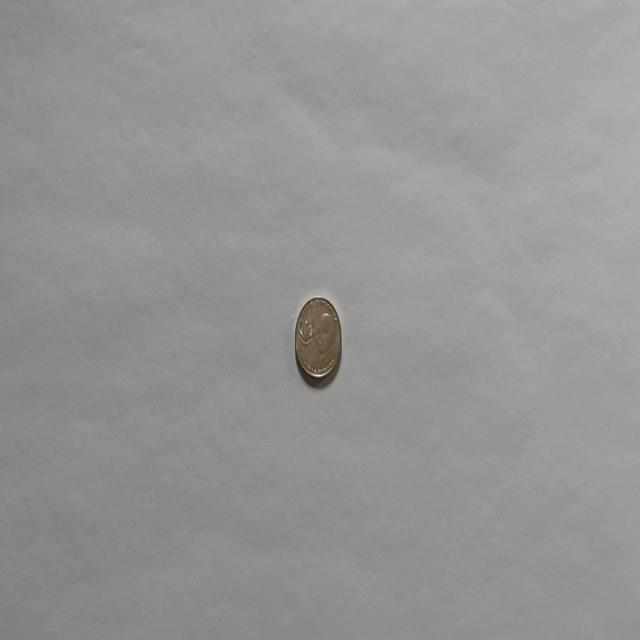lima ratus rupiah: (294, 294, 342, 382)
